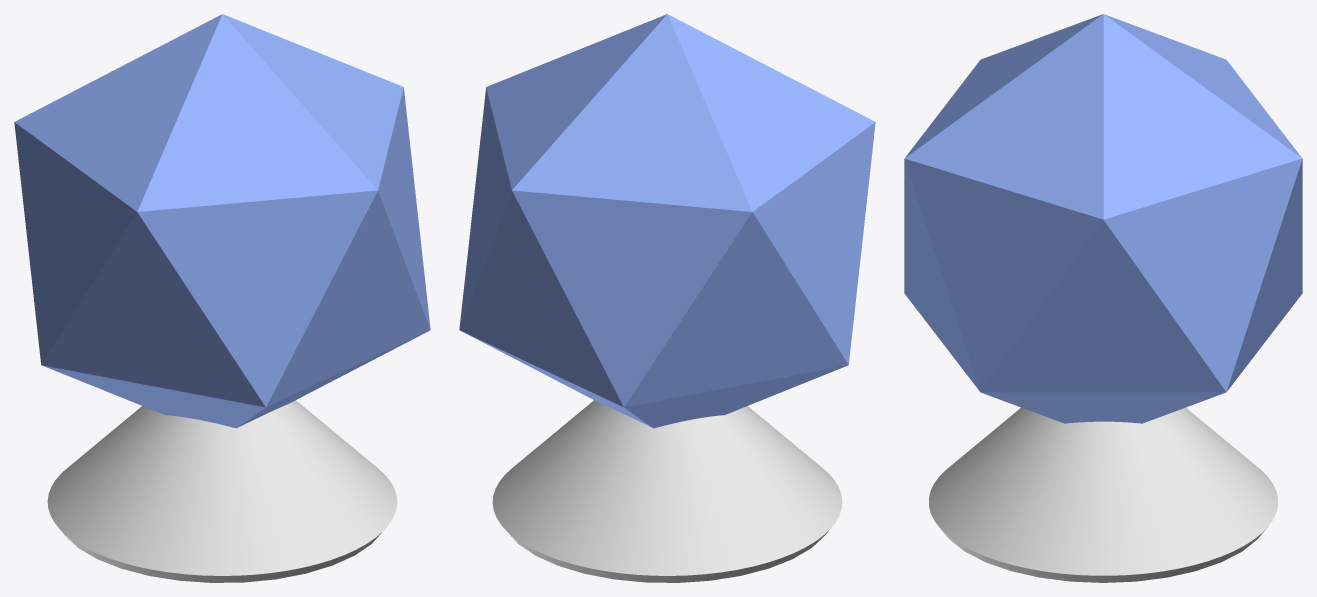
The model's file is capstone_white.glb.
The picture shows the model from 3 angles, left to right: view 1: azimuth 30°, elevation 25°; view 2: azimuth 150°, elevation 25°; view 3: azimuth 270°, elevation 25°; orthographic projection.
Parts seen in each view (by area): view 1: CapstoneWhite, Cylinder; view 2: CapstoneWhite, Cylinder; view 3: CapstoneWhite, Cylinder.
Part boxes in pixels (<box>): CapstoneWhite: <box>14,14,430,428</box>; Cylinder: <box>47,400,397,582</box>; CapstoneWhite: <box>459,14,875,428</box>; Cylinder: <box>492,400,842,582</box>; CapstoneWhite: <box>904,14,1302,423</box>; Cylinder: <box>929,407,1277,582</box>.
Bounding box in the file's own units: 0.7155 × 0.9404 × 0.6805.
